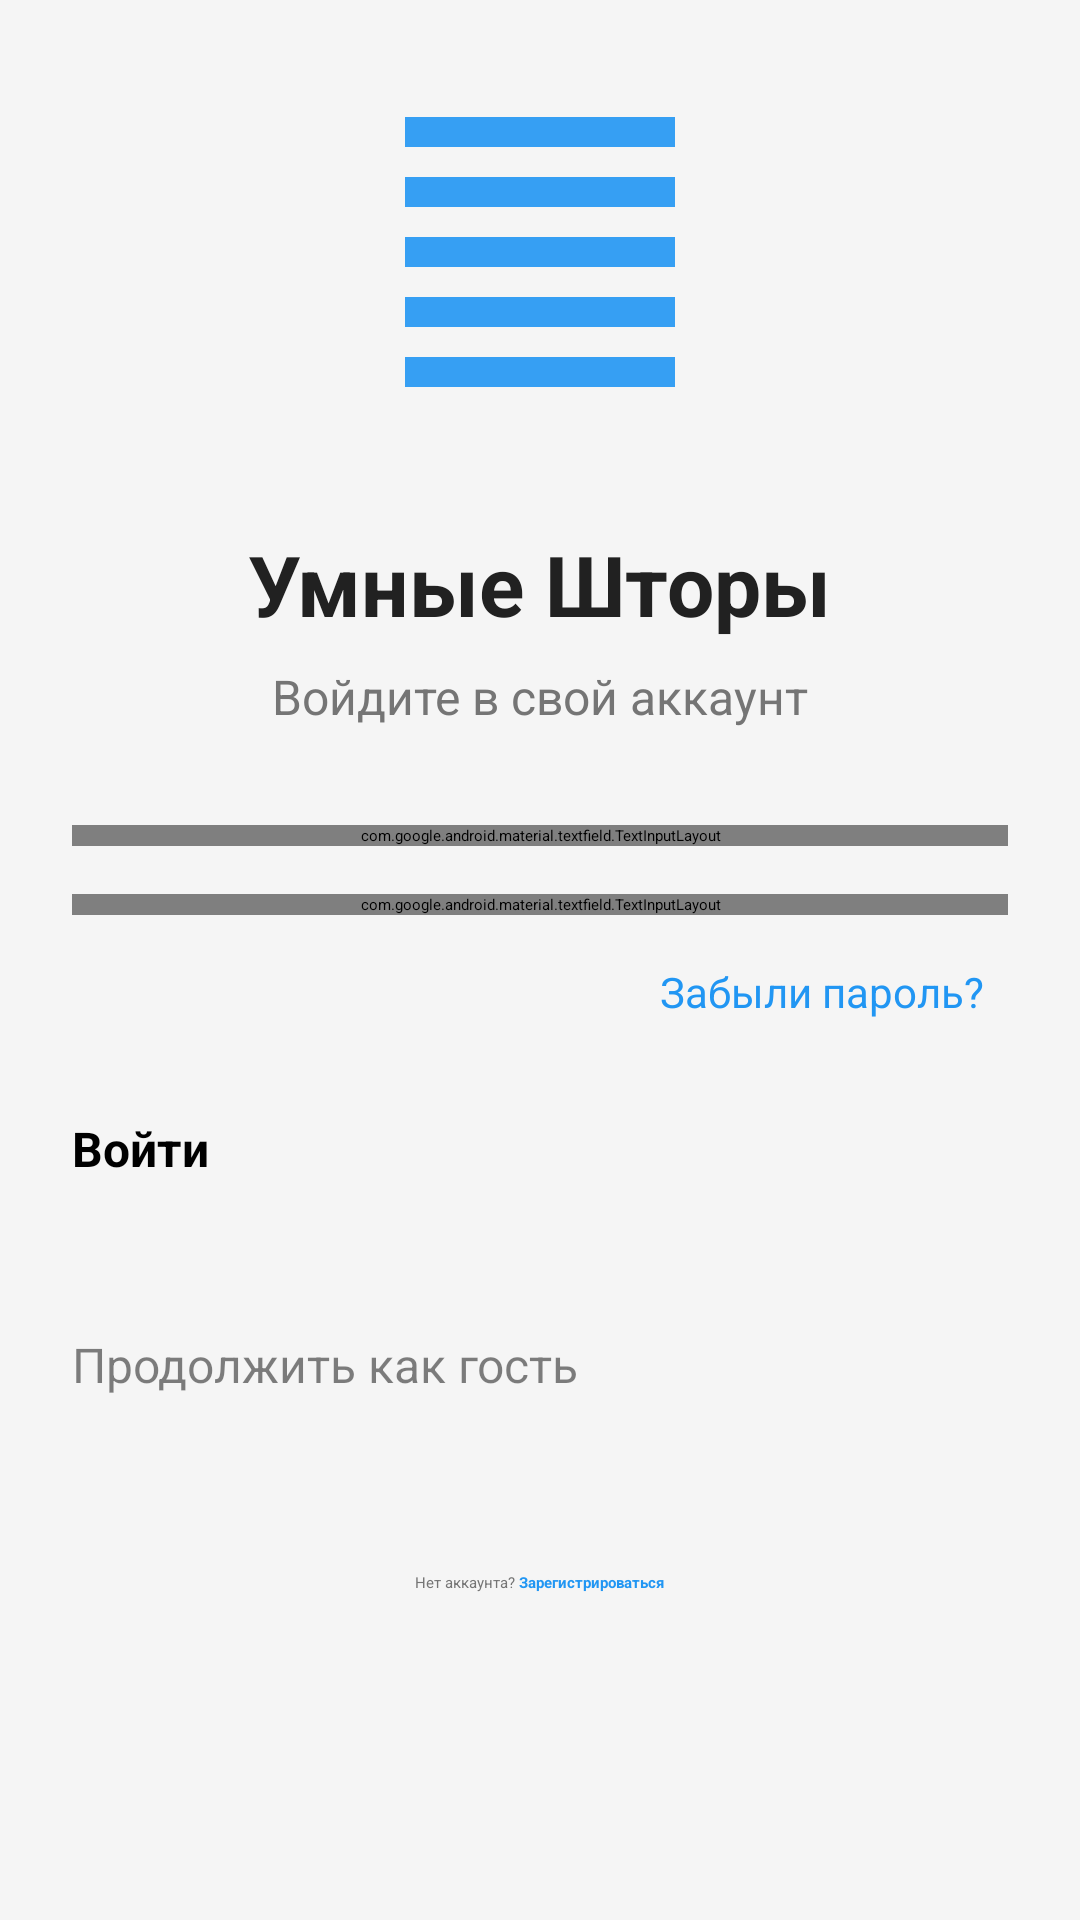

Point at icon controls on the screen. Image size 1080*1920, points as (x,y).
curtain: (540,252)
